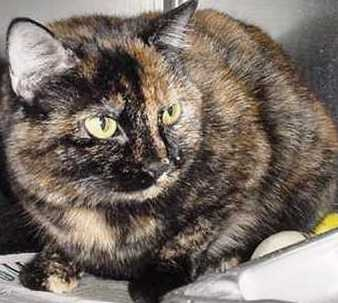Cat: (19, 0, 337, 291)
